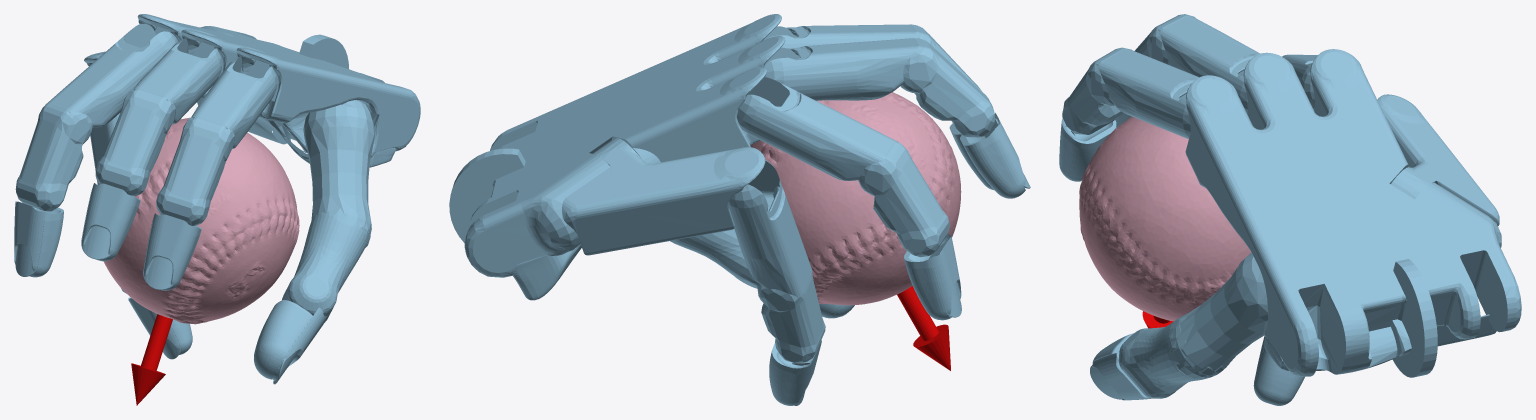
The picture shows the model from 3 angles, left to right: view 1: azimuth 30°, elevation 25°; view 2: azimuth 150°, elevation 25°; view 3: azimuth 270°, elevation 25°; orthographic projection. The views are drawn at different scales.
Parts seen in each view (by area): view 1: world, baseball.stl; view 2: world, baseball.stl; view 3: world, baseball.stl.
Boxes of the visible parts, left/top/right/bottom form: world: left=14, top=14, right=420, bottom=405; baseball.stl: left=103, top=117, right=299, bottom=324; world: left=449, top=14, right=1030, bottom=405; baseball.stl: left=750, top=92, right=961, bottom=305; world: left=1059, top=14, right=1521, bottom=405; baseball.stl: left=1079, top=116, right=1251, bottom=321.
Bounding box in the file's own units: 0.1713 × 0.1283 × 0.1498.
